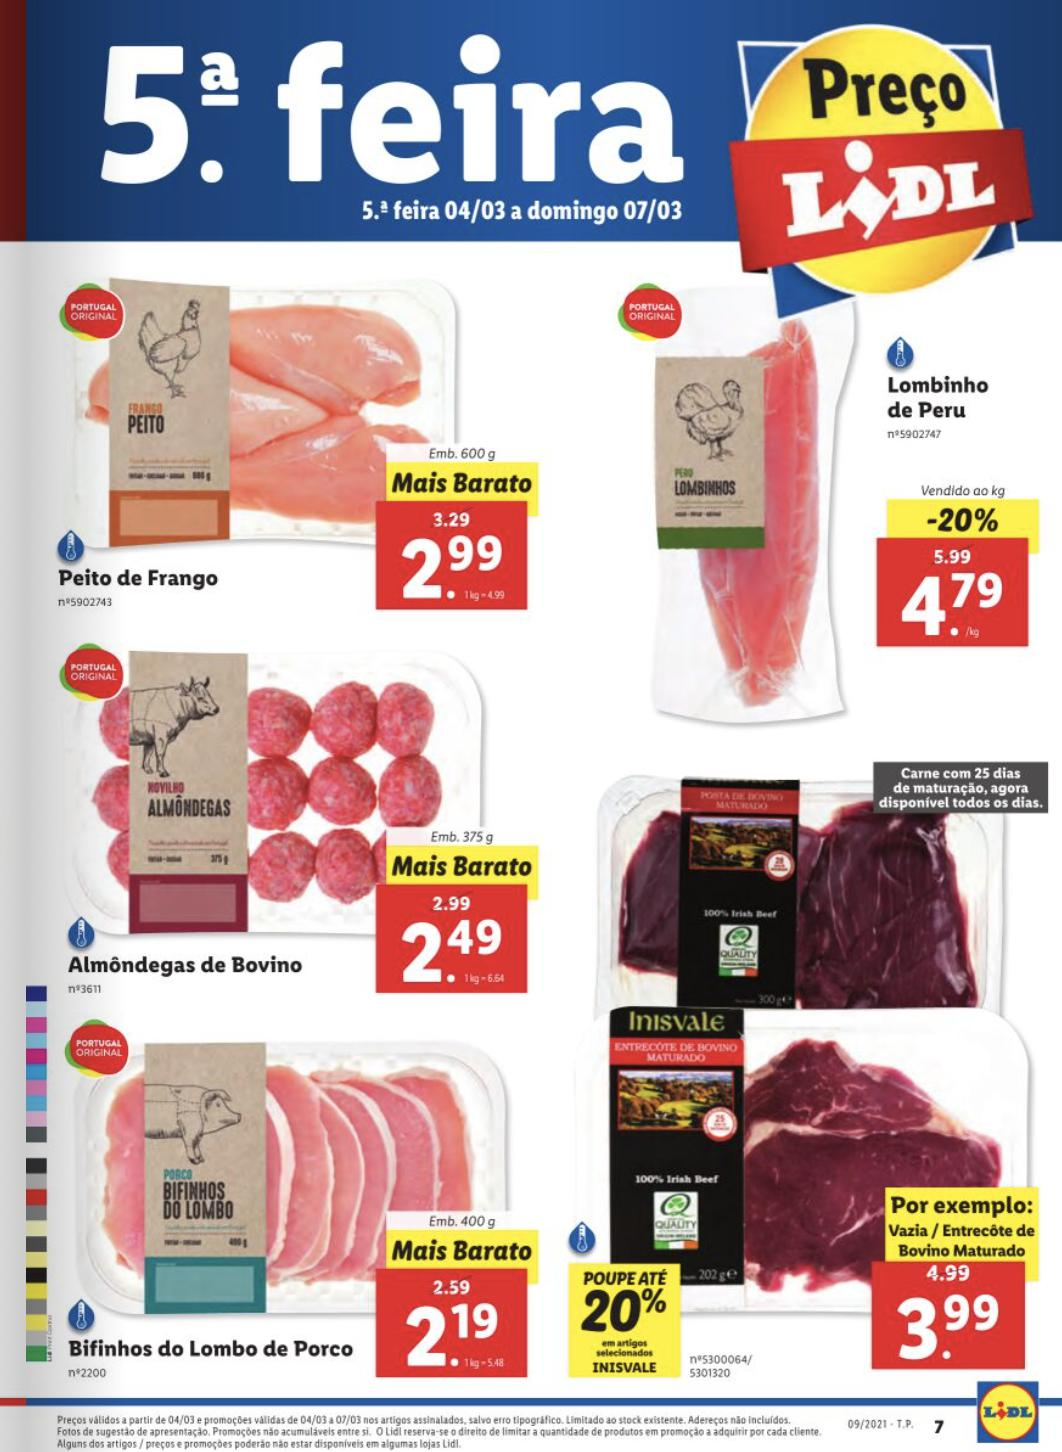name: (67, 1333, 359, 1360), (67, 949, 315, 981), (890, 370, 995, 423), (60, 569, 225, 594)
price: (894, 1283, 1009, 1367), (894, 569, 1012, 643), (405, 534, 521, 609), (401, 1301, 511, 1374), (396, 917, 505, 989)
product: (563, 741, 1054, 1387), (598, 271, 1054, 741), (20, 640, 556, 1012), (52, 1009, 561, 1398), (23, 258, 547, 625)
promotion: (583, 1292, 671, 1334), (923, 510, 1009, 540)
